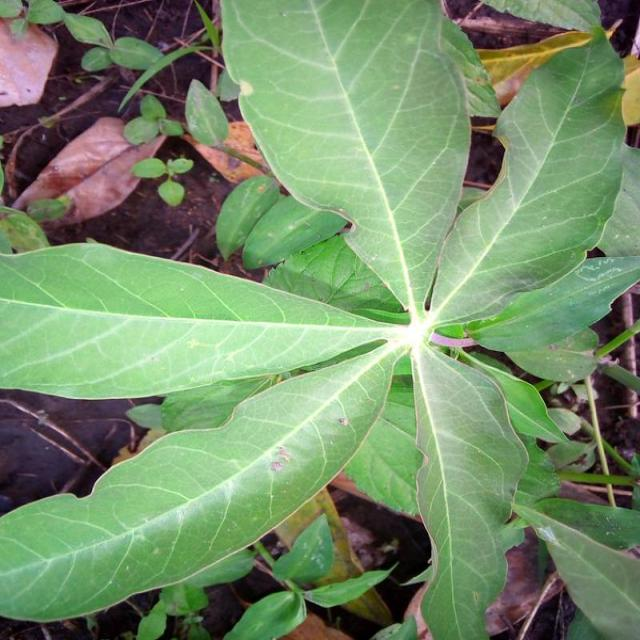cassava leaf: (0, 1, 638, 636), (0, 337, 404, 623), (218, 0, 496, 313)
